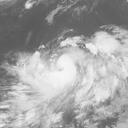cyclone: (30, 32, 114, 99)
